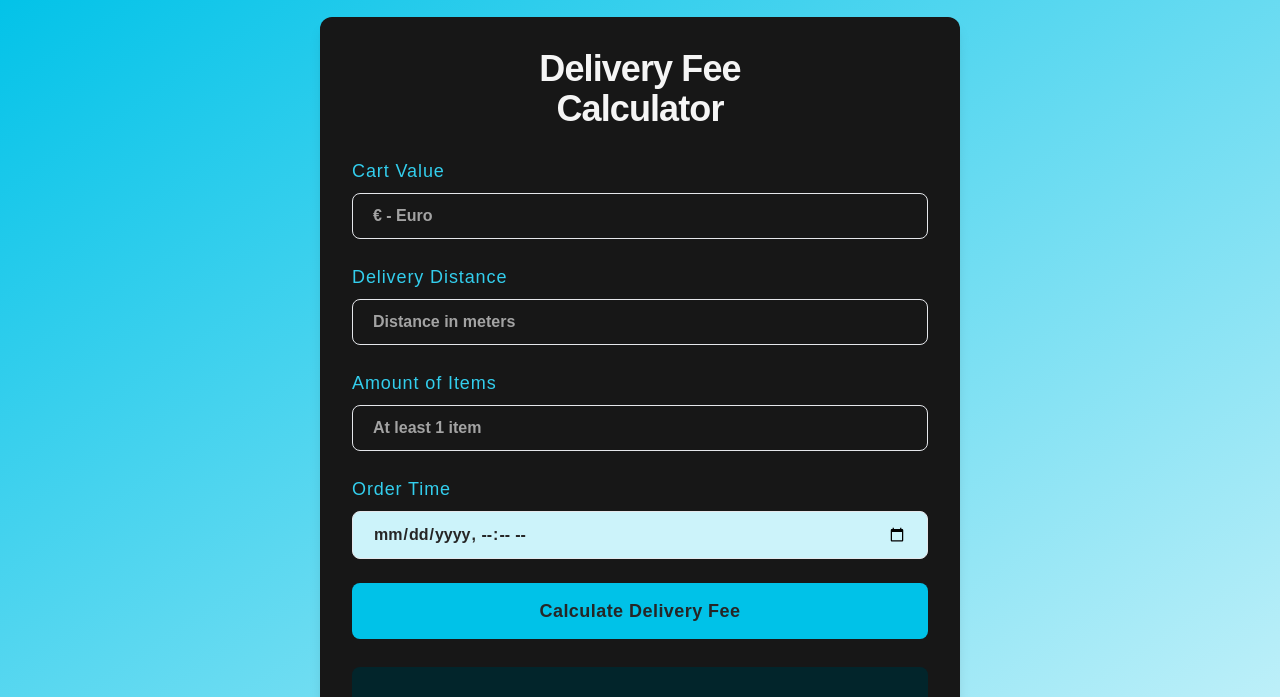
Test: calculates delivery fee with valid inputs
The width and height of the screenshot is (1280, 697).
Type "15" into the number field with test id "cartValue" at (640, 216), box [352,193,928,239]
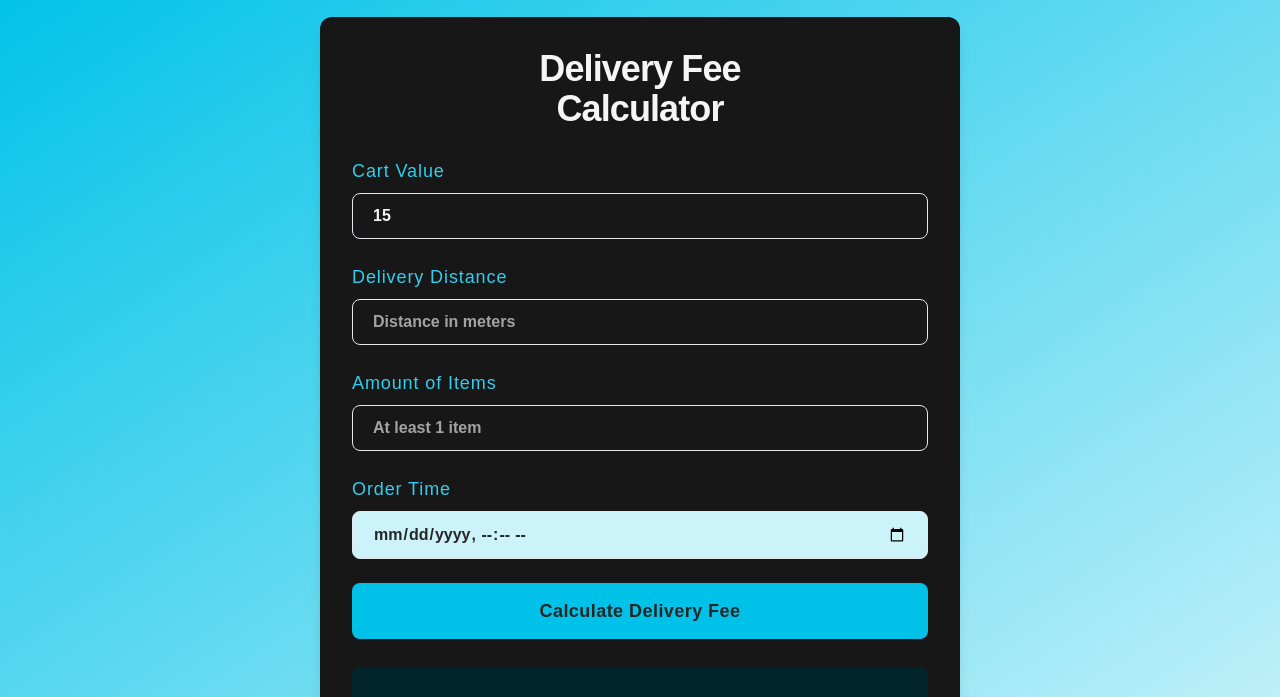
Type "1200" into the number field with test id "deliveryDistance" at (640, 322), box [352,299,928,345]
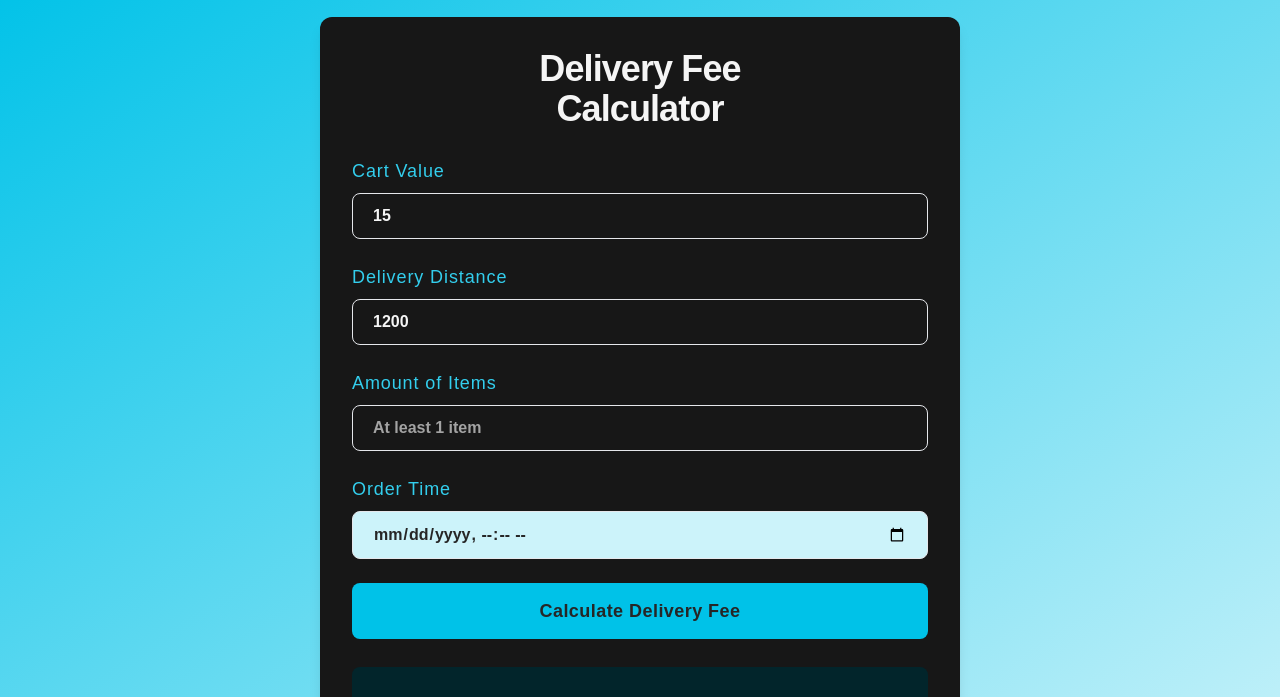
Type "7" into the number field with test id "numItems" at (640, 428), box [352,405,928,451]
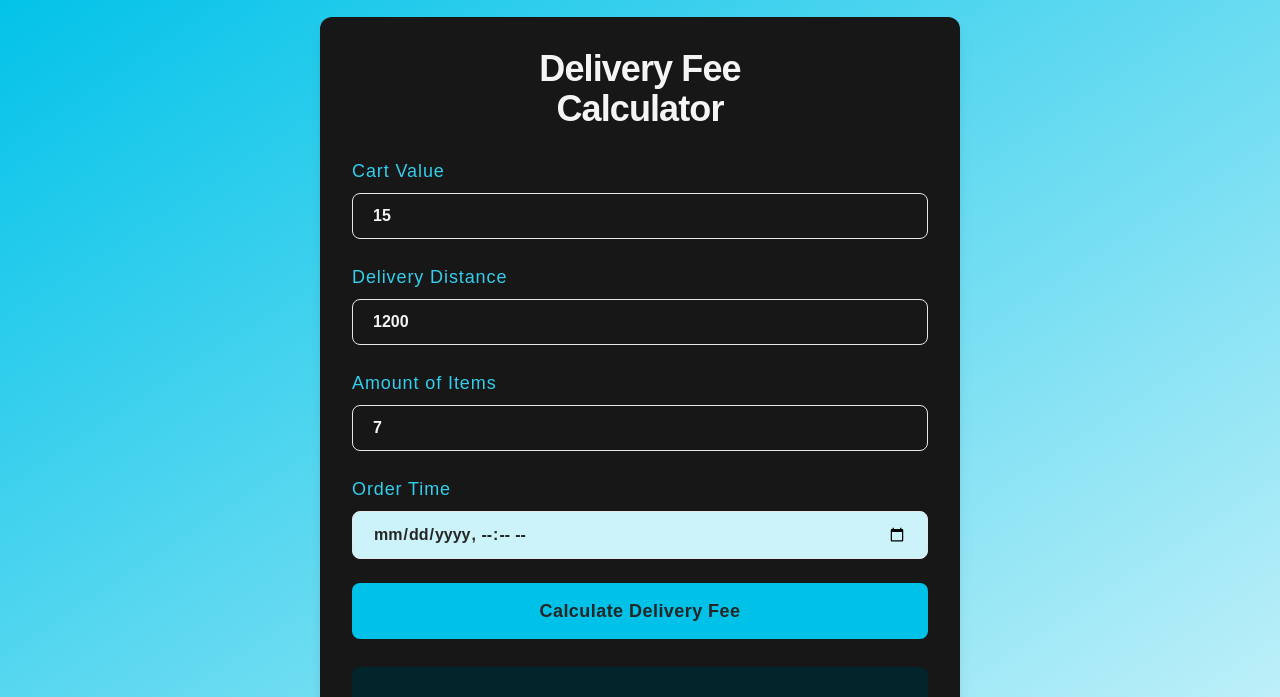
Type "2022-01-25T12:00" into the field with test id "orderTime" at (640, 535), box [352,511,928,559]
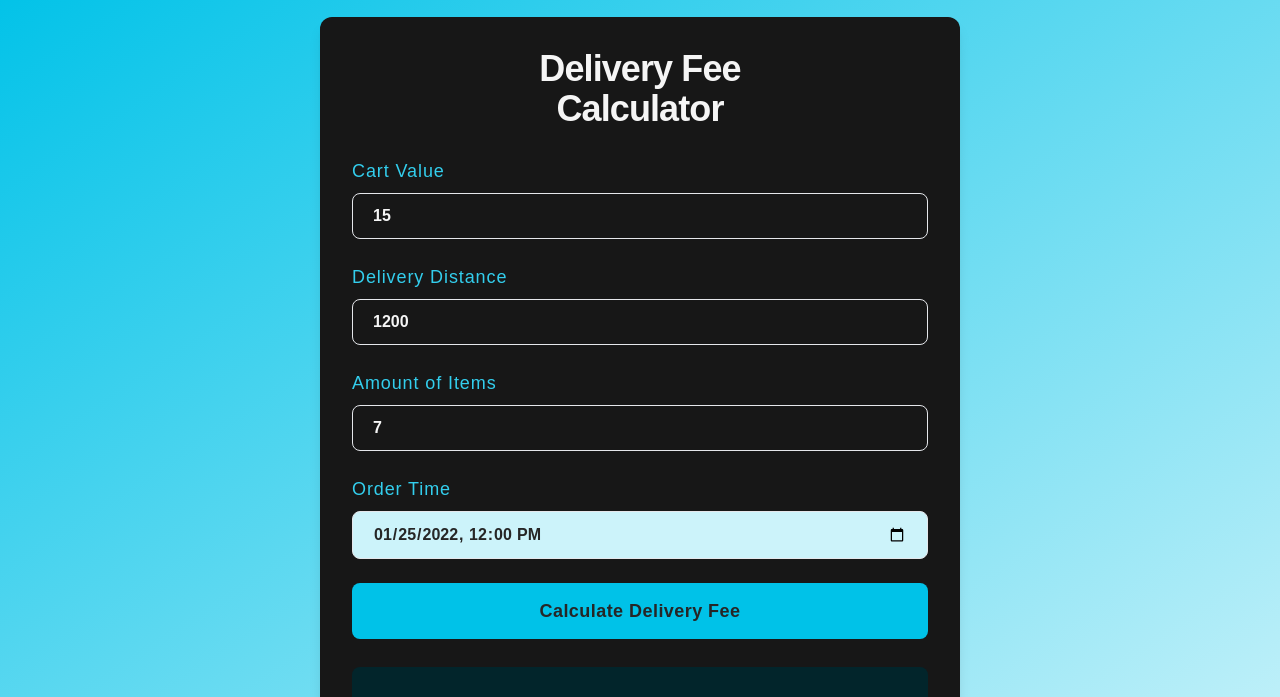
Click the button "Calculate Delivery Fee" at (640, 611), box [352,583,928,639]
(page scrolled)
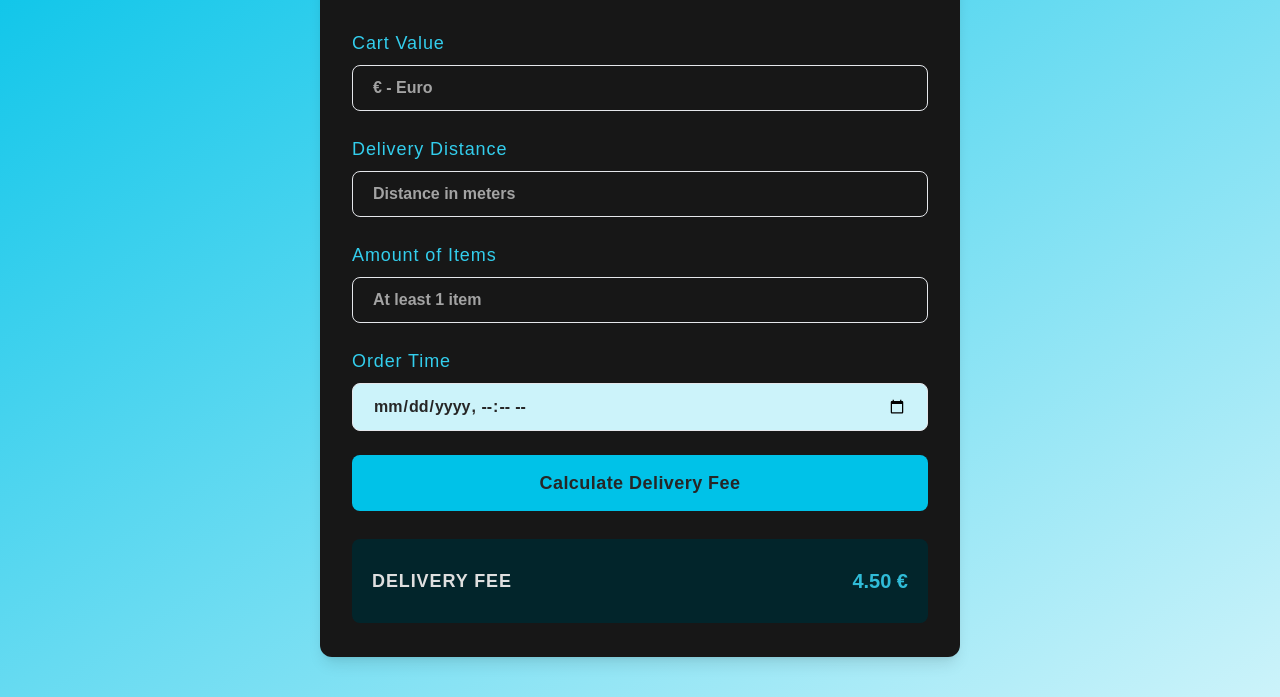
Result: the text with test id "fee" reads "4.50 €" at [852,567,908,595]
